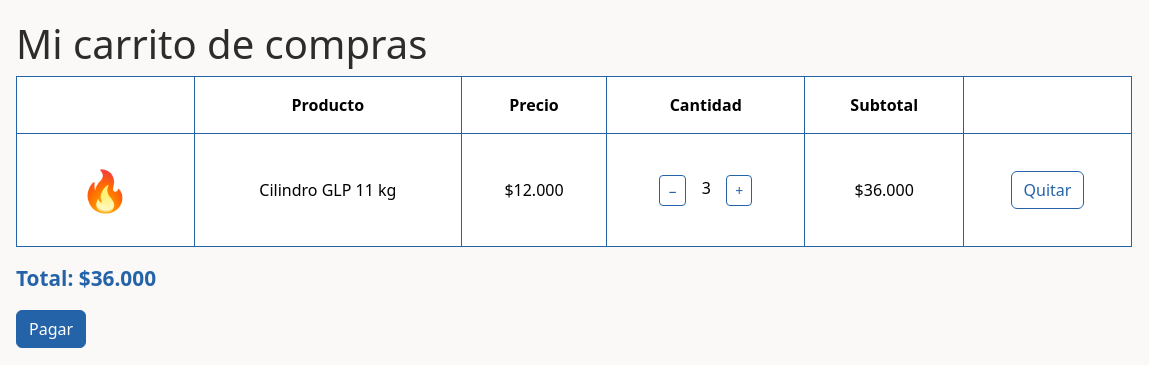
Test: Carrito: botón "Pagar" (crea el pedido en el backend) › un cliente con sesión paga: se envía el pedido, se vacía el carrito y se muestra la confirmación
This screenshot has width=1149, height=365.
Click the button "Pagar": (51, 329) [16, 310, 86, 348]
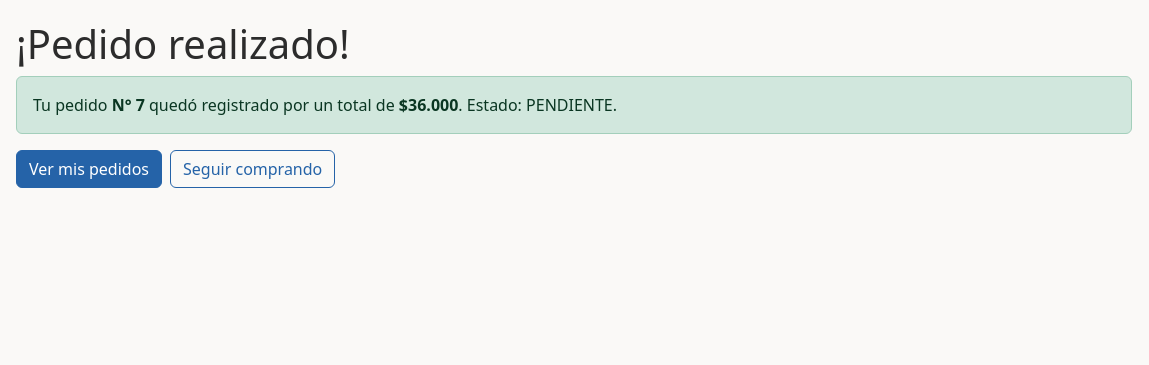
Expected: the heading "¡Pedido realizado!" is shown, [16, 16, 350, 71]
Expected: the text "N° 7" is shown, [112, 94, 145, 116]
